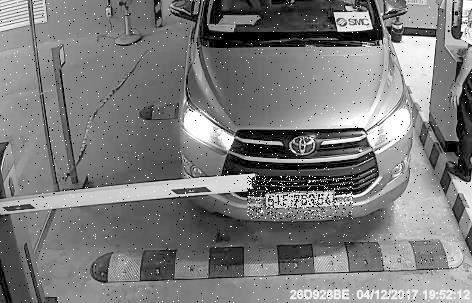License-plate: (249, 178, 355, 221)
